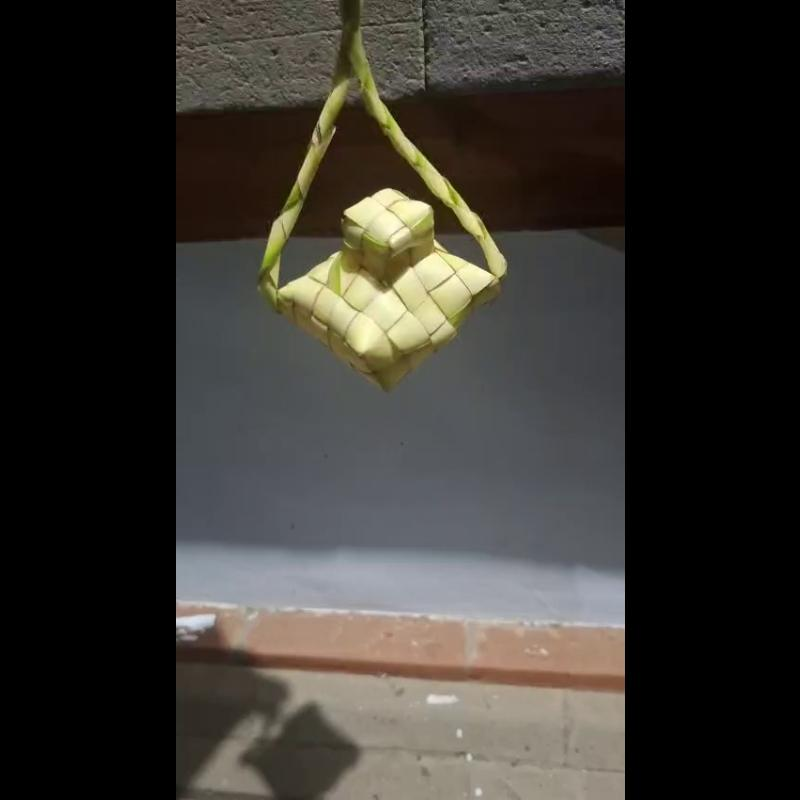Tipat Gong: (256, 0, 509, 393)
